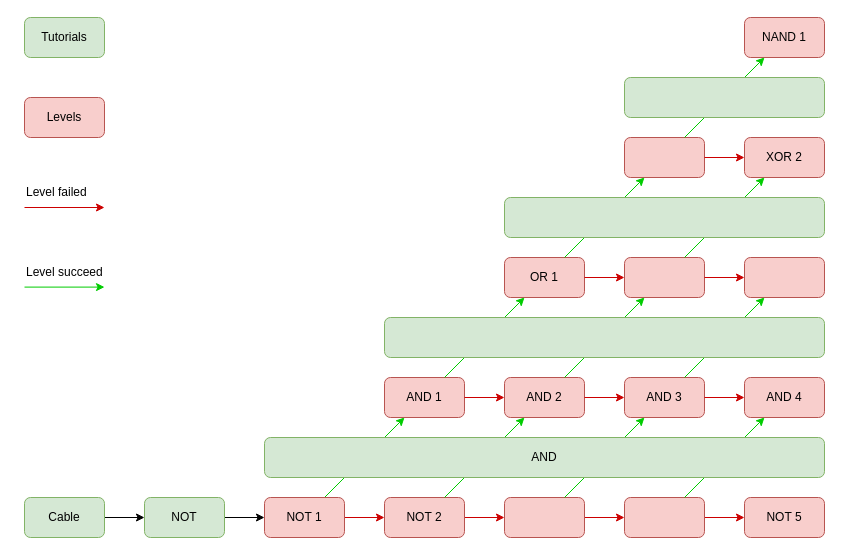
Image size: 842x555. Some labels were removed from this diagram. The centre of each missing label's shape, as x and y in pixels:
"NAND" belongs at [724,97].
"NOT 3" belongs at [544,517].
"NOT 4" belongs at [664,517].
"OR" belongs at [604,337].
"OR 2" belongs at [664,277].
"OR 3" belongs at [784,277].
"XOR" belongs at [664,217].
"XOR 1" belongs at [664,157].
